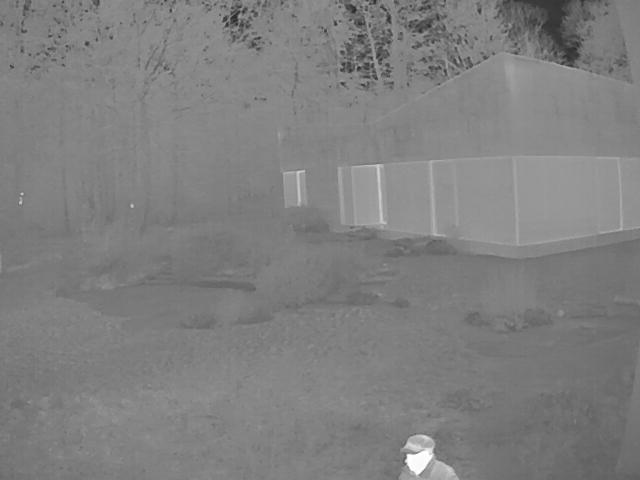person: (399, 432, 461, 477)
